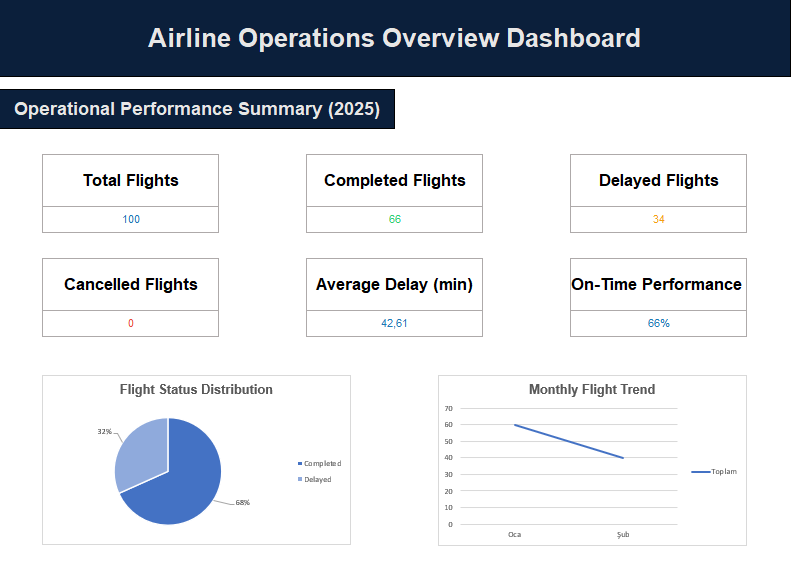

The page's visual inventory and layout, read from the dashboard file:
{"tool":"powerbi","page":{"name":"Overview","canvas":[1280,720],"ordinal":0},"visuals":[{"type":"cardVisual","title":"Total Flights","fields":{"Data":["_measure.total_flight"]},"box":[60.7,33.3,213.1,126.2],"z":0},{"type":"cardVisual","title":"Delayed Flights","fields":{"Data":["_measure.delayed_flights"]},"box":[307.1,33.3,213.1,126.2],"z":1},{"type":"cardVisual","title":"Avg Delay (min)","fields":{"Data":["_measure.avg_delay"]},"box":[808.3,33.3,259.5,126.2],"z":3},{"type":"cardVisual","title":"On Time","fields":{"Data":["_measure.on_time_%"]},"box":[558.3,33.3,213.1,126.2],"z":4},{"type":"pieChart","title":"Flight Status","fields":{"Category":["fact_flights.Flight_Status"],"Y":["CountNonNull(fact_flights.Flight_ID)"]},"box":[60.7,223.8,459.5,260.7],"z":5},{"type":"columnChart","title":"Airline Performance","fields":{"Category":["dim_airlines.Airline_Name"],"Y":["Avg(fact_delays.Delay_Minutes)"]},"box":[558.3,200,682.1,284.5],"z":6},{"type":"lineChart","title":"Monthly Flight Trend","fields":{"Category":["Calendar.Date.Varyasyon.Tarih Hiyerarşisi.Ay"],"Y":["CountNonNull(fact_flights.Flight_ID)"]},"box":[60.7,508.3,1179.8,194],"z":7}]}

Visuals, with their boxes on the page's 1280x720 design canvas (x1, y1, x2, y2). These are canvas units, not pixel positions in the 792x562 screenshot, which may show the page scaled, cropped or inside an application window:
"Total Flights" cardVisual: box=[61, 33, 274, 160]
"Delayed Flights" cardVisual: box=[307, 33, 520, 160]
"Avg Delay (min)" cardVisual: box=[808, 33, 1068, 160]
"On Time" cardVisual: box=[558, 33, 771, 160]
"Flight Status" pieChart: box=[61, 224, 520, 484]
"Airline Performance" columnChart: box=[558, 200, 1240, 484]
"Monthly Flight Trend" lineChart: box=[61, 508, 1240, 702]
